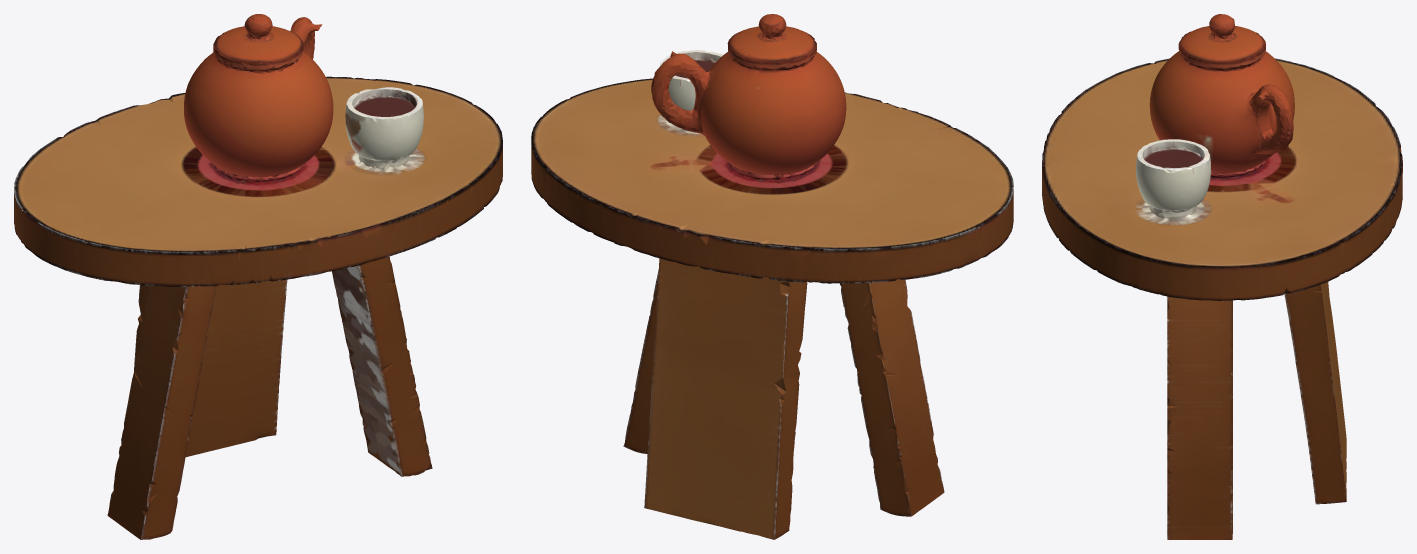
Rendered from Furn_SylvaTable.glb.
The picture shows the model from 3 angles, left to right: view 1: azimuth 30°, elevation 25°; view 2: azimuth 150°, elevation 25°; view 3: azimuth 270°, elevation 25°; orthographic projection. The views are drawn at different scales.
Parts seen in each view (by area): view 1: Furn_SylvaTable; view 2: Furn_SylvaTable; view 3: Furn_SylvaTable.
Part boxes in pixels (box(x1,y1,x2,y2)): Furn_SylvaTable: box(14, 14, 502, 539); Furn_SylvaTable: box(531, 14, 1013, 539); Furn_SylvaTable: box(1042, 14, 1402, 539).
Bounding box in the file's own units: 0.8506 × 0.85 × 0.6077.
1 material, 1 textured.
